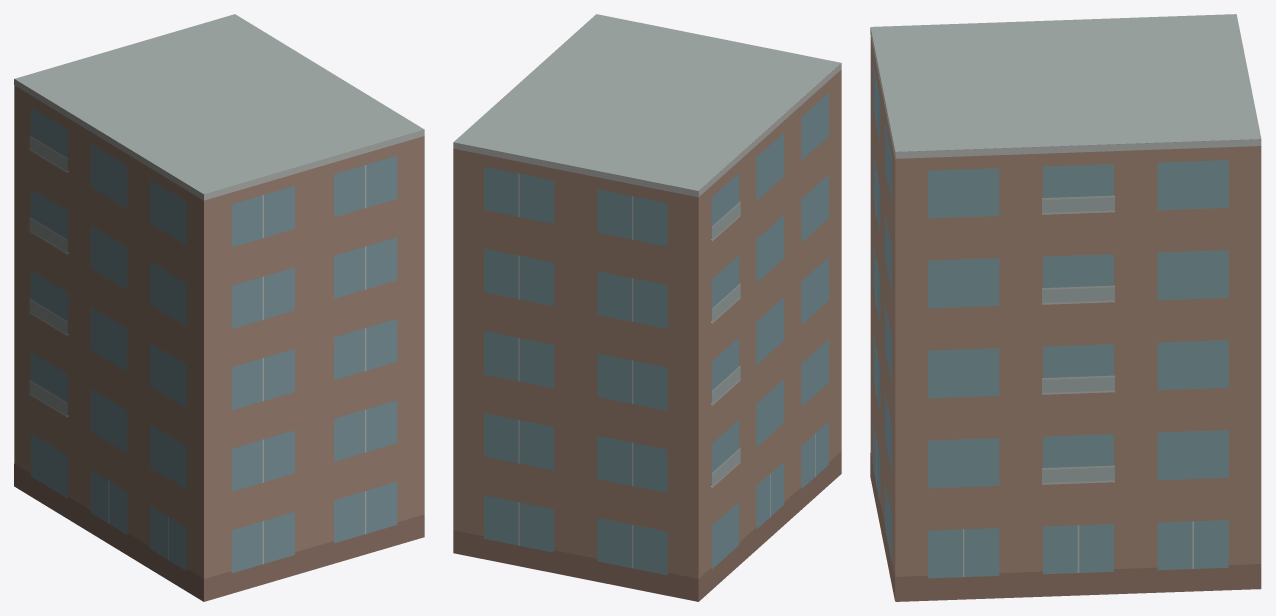
File: survey-upis-32977006.glb
3 renders of one model, left to right at view 1: azimuth 30°, elevation 25°; view 2: azimuth 150°, elevation 25°; view 3: azimuth 270°, elevation 25°, orthographic. The views are drawn at different scales.
Visible parts, largest first — view 1: survey-upis-32977006.tmp; view 2: survey-upis-32977006.tmp; view 3: survey-upis-32977006.tmp.
Part boxes in pixels (x1=…): survey-upis-32977006.tmp: x1=14, y1=14, x2=424, y2=601; survey-upis-32977006.tmp: x1=453, y1=14, x2=841, y2=601; survey-upis-32977006.tmp: x1=870, y1=14, x2=1261, y2=601.
Size of the model in its own units: 10.39 by 15.8 by 12.45.
